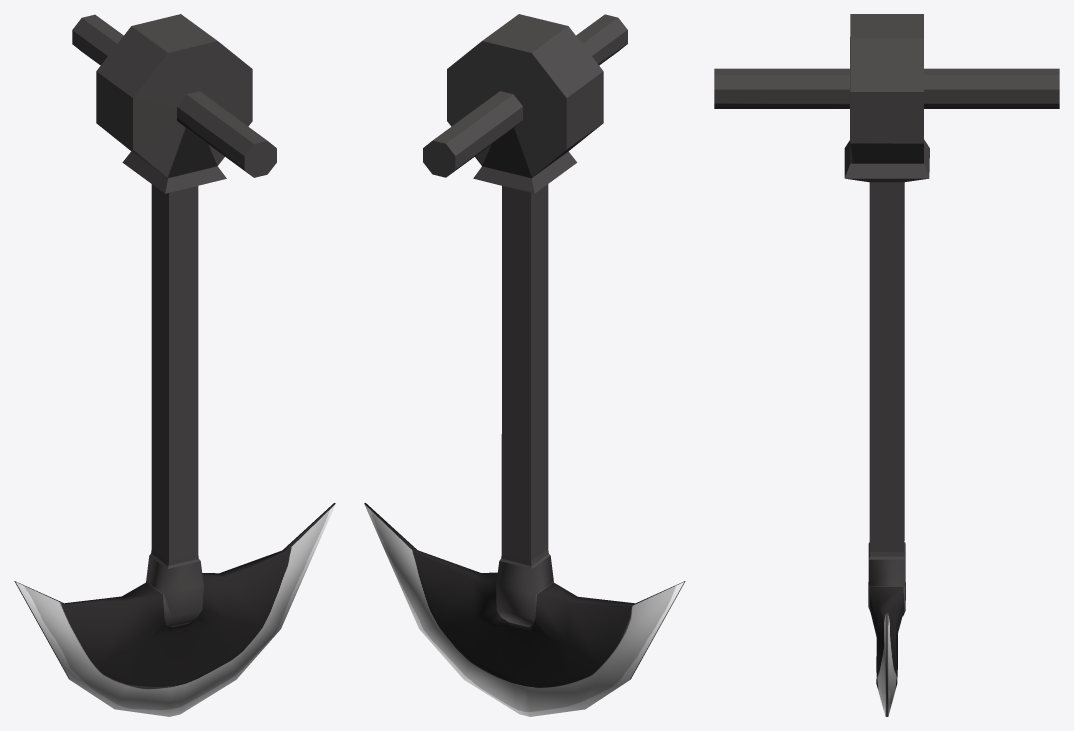
File: Blade_Pendelum_Upper_Floor_Unwrapped.FBX
3 renders of one model, left to right at view 1: azimuth 30°, elevation 25°; view 2: azimuth 150°, elevation 25°; view 3: azimuth 270°, elevation 25°, orthographic.
Visible parts, largest first — view 1: Blade_Pendelum_Upper_Floor; view 2: Blade_Pendelum_Upper_Floor; view 3: Blade_Pendelum_Upper_Floor.
Boxes of the visible parts, box(x1,y1,x2,y2) form: Blade_Pendelum_Upper_Floor: box(14, 14, 335, 716); Blade_Pendelum_Upper_Floor: box(364, 14, 685, 716); Blade_Pendelum_Upper_Floor: box(714, 14, 1059, 716).
Bounding box in the file's own units: 1.53 × 3.1 × 1.42.
